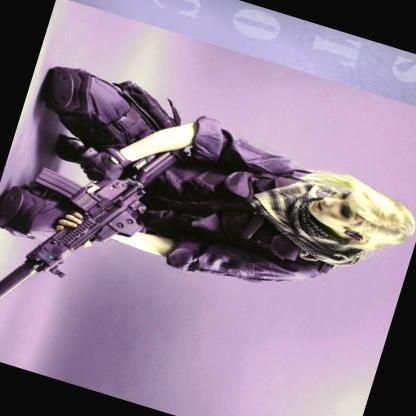rifle: (0, 104, 188, 343)
